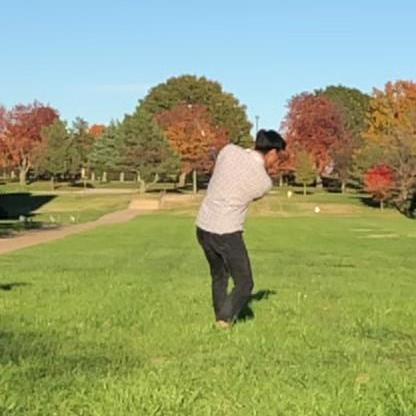golfball: (311, 204, 319, 212)
